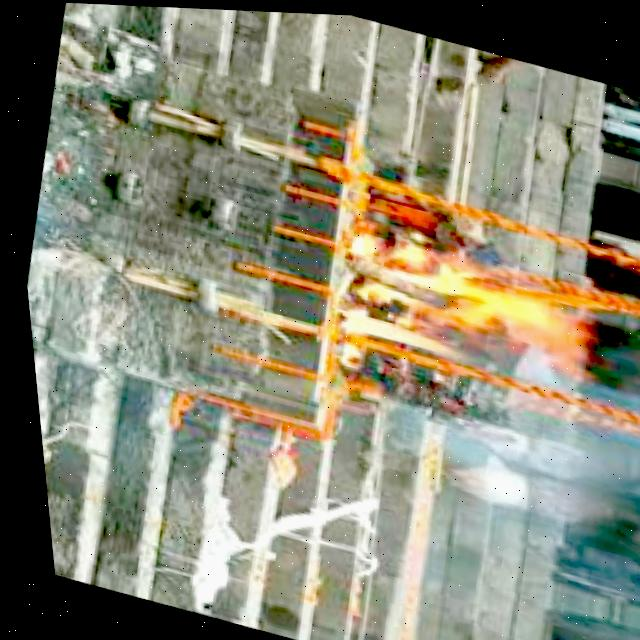Fire: (317, 220, 602, 400)
